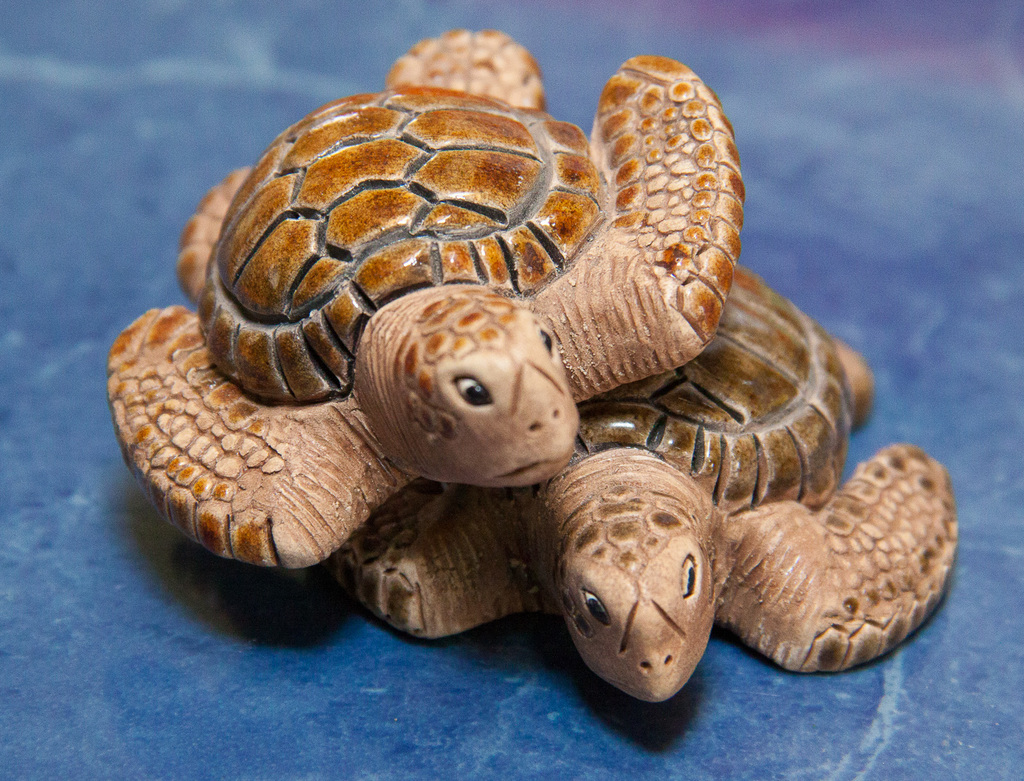Sea turtles: (98, 17, 743, 568), (319, 255, 959, 712)
